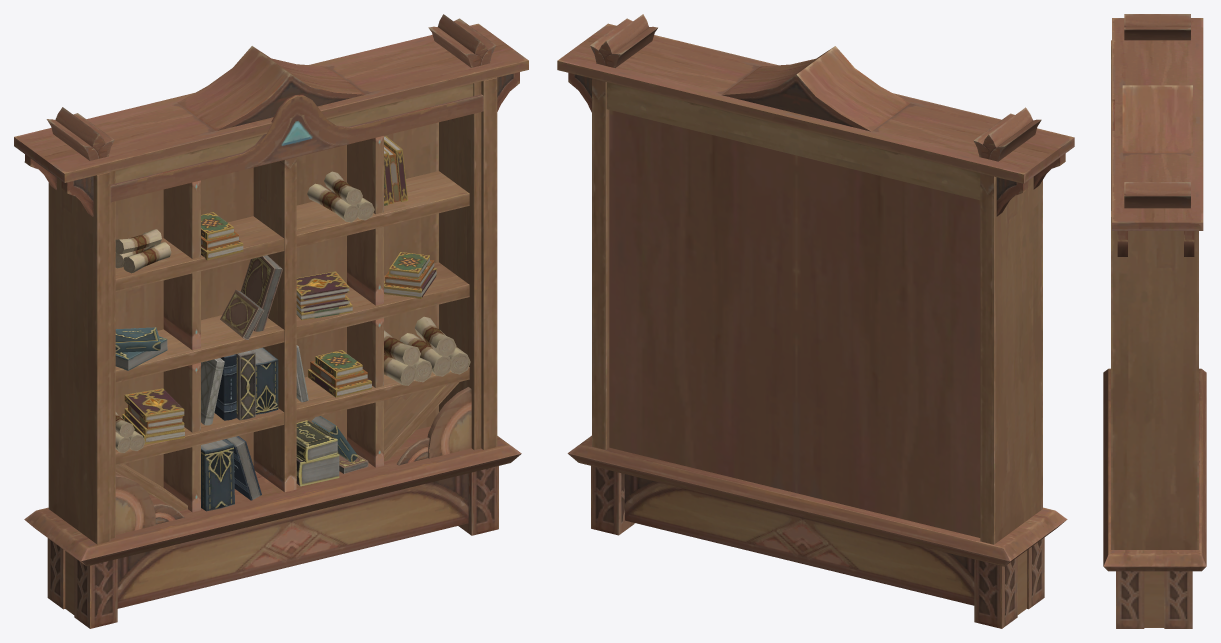
File: Homeworld_Interior_Xm_Cabinet_Prop_Bookcase_01_Lod0.fbx
3 renders of one model, left to right at view 1: azimuth 30°, elevation 25°; view 2: azimuth 150°, elevation 25°; view 3: azimuth 270°, elevation 25°, orthographic. The views are drawn at different scales.
Parts seen in each view (by area): view 1: Homeworld_Interior_Xm_Cabinet_Prop_Bookcase_01_Lod0; view 2: Homeworld_Interior_Xm_Cabinet_Prop_Bookcase_01_Lod0; view 3: Homeworld_Interior_Xm_Cabinet_Prop_Bookcase_01_Lod0.
Part boxes in pixels (x1,y1,x2,y2): Homeworld_Interior_Xm_Cabinet_Prop_Bookcase_01_Lod0: (14,14,528,628); Homeworld_Interior_Xm_Cabinet_Prop_Bookcase_01_Lod0: (557,14,1074,628); Homeworld_Interior_Xm_Cabinet_Prop_Bookcase_01_Lod0: (1103,14,1206,628).
Size of the model in its own units: 3.28 by 3.38 by 0.697.
